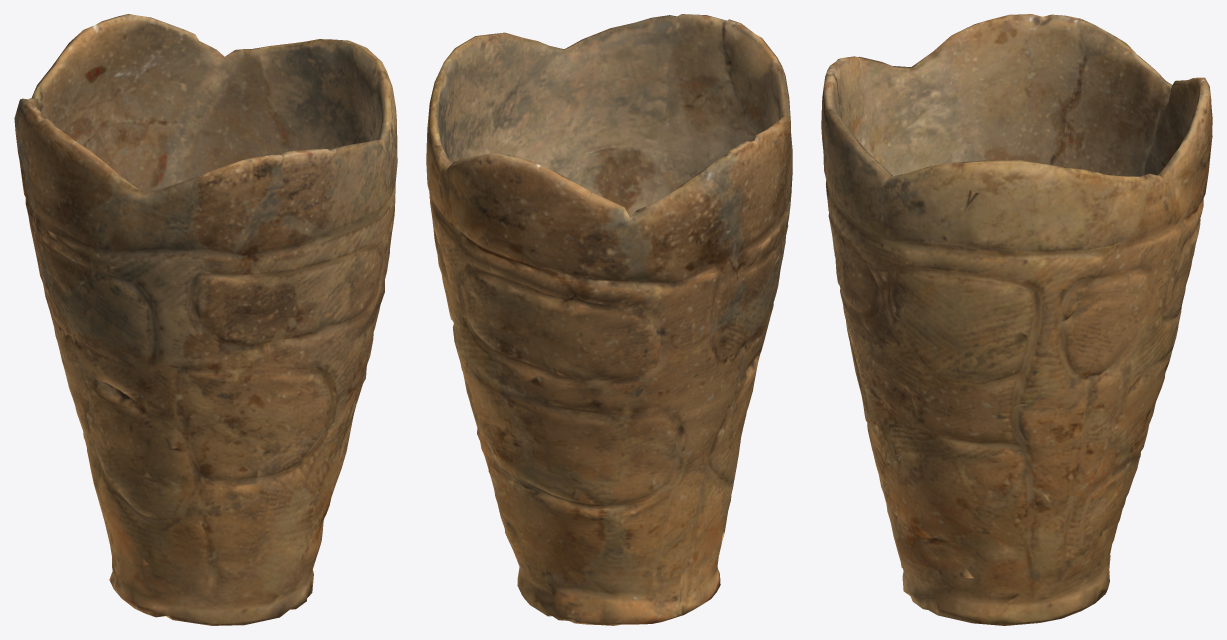
3 renders of one model, left to right at view 1: azimuth 30°, elevation 25°; view 2: azimuth 150°, elevation 25°; view 3: azimuth 270°, elevation 25°, orthographic.
Visible parts, largest first — view 1: SJ0503_low; view 2: SJ0503_low; view 3: SJ0503_low.
Boxes of the visible parts, left/top/right/bottom form: SJ0503_low: left=14, top=14, right=397, bottom=625; SJ0503_low: left=426, top=14, right=792, bottom=625; SJ0503_low: left=821, top=14, right=1212, bottom=625.
Size of the model in its own units: 206 by 307 by 216.
1 material, 1 textured.
